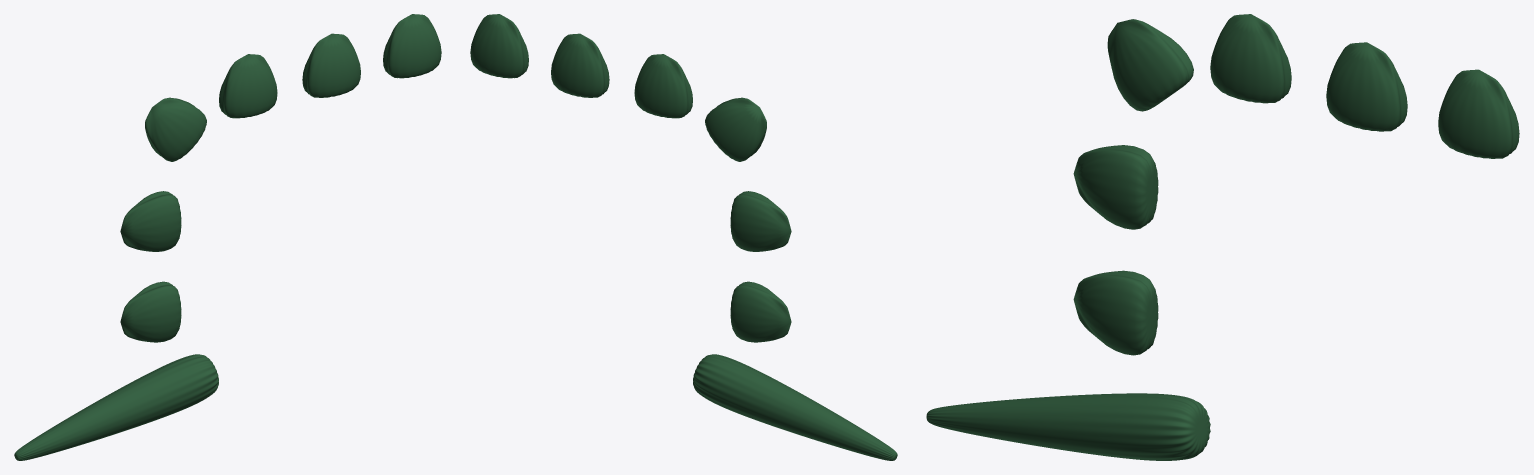
File: Dinosaure.fbx
The picture shows the model from 3 angles, left to right: view 1: azimuth 30°, elevation 25°; view 2: azimuth 150°, elevation 25°; view 3: azimuth 330°, elevation 25°; orthographic projection. The views are drawn at different scales.
Parts seen in each view (by area): view 1: Dinosaure1; view 2: Dinosaure1; view 3: Dinosaure1.
Part boxes in pixels (<box>): Dinosaure1: <box>14,14,441,460</box>; Dinosaure1: <box>470,14,897,460</box>; Dinosaure1: <box>926,14,1519,460</box>.
Bounding box in the file's own units: 142 × 113 × 13.93.
